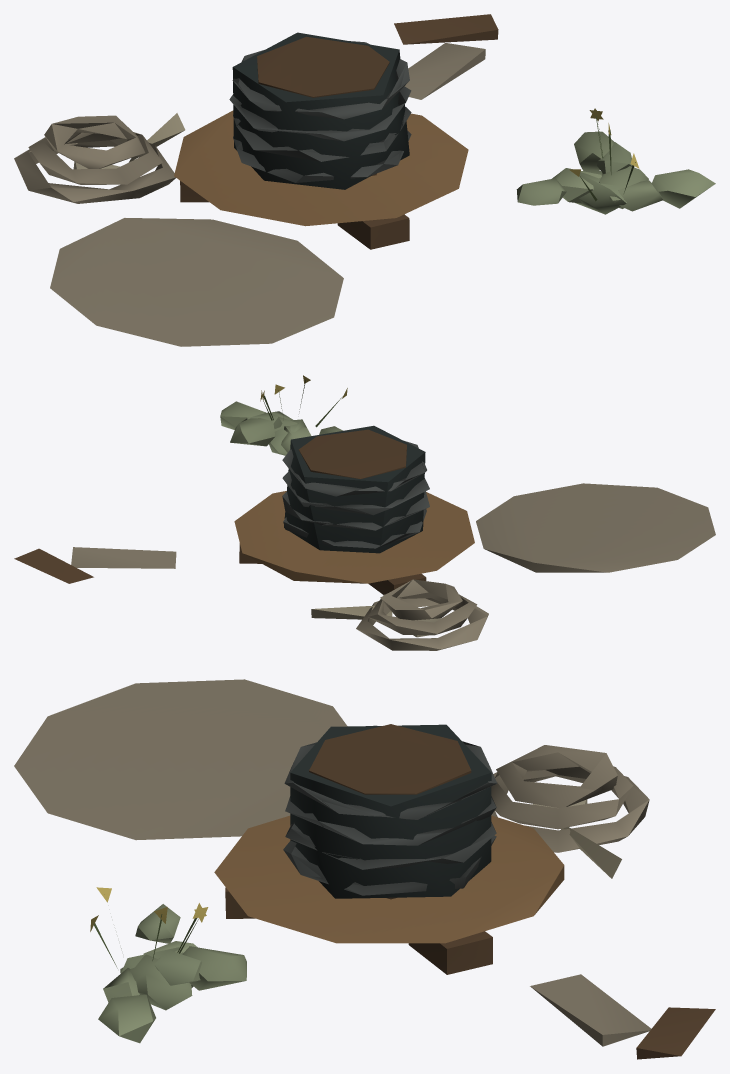
The model's file is cable_drum_c_lod2.glb.
3 renders of one model, top to bottom at view 1: azimuth 30°, elevation 25°; view 2: azimuth 150°, elevation 25°; view 3: azimuth 270°, elevation 25°, orthographic. The views are drawn at different scales.
Parts seen in each view (by area): view 1: Surface.001; view 2: Surface.001; view 3: Surface.001.
Boxes of the visible parts, left/top/right/bottom form: Surface.001: left=14, top=14, right=715, bottom=346; Surface.001: left=14, top=375, right=715, bottom=650; Surface.001: left=14, top=679, right=715, bottom=1059.
Size of the model in its own units: 7.62 by 1.48 by 6.3.
